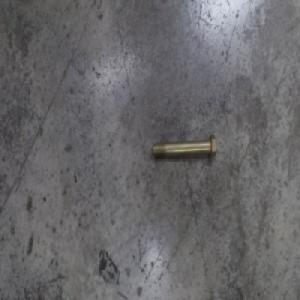Bolt: (150, 131, 217, 160)
